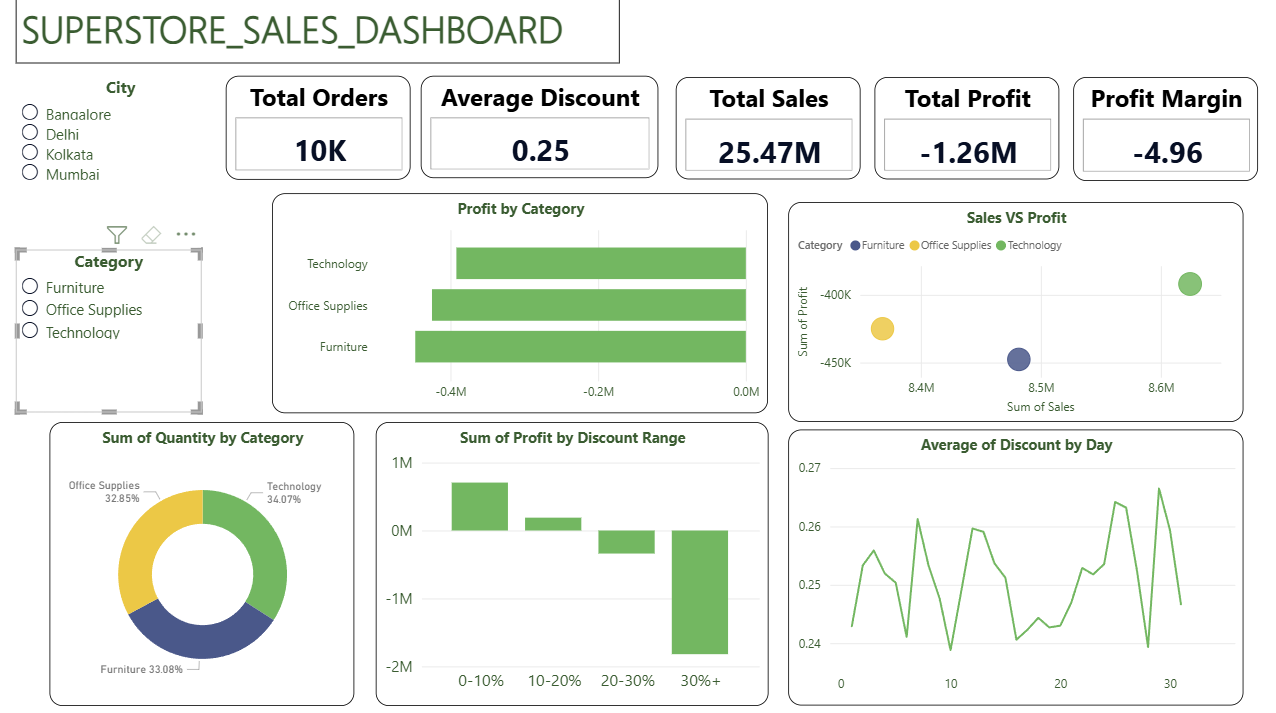

The dashboard page shown, as its layout file describes it:
{"tool":"powerbi","page":{"name":"Page 1","canvas":[1280,720],"ordinal":0},"visuals":[{"type":"cardVisual","title":"Total Sales","fields":{"Data":["Sum(cleaned_superstore.Sales)"]},"box":[678.8,80,185,102.5],"z":0},{"type":"cardVisual","title":"Total Profit","fields":{"Data":["Sum(cleaned_superstore.Profit)"]},"box":[877.5,80,185,102.5],"z":1},{"type":"cardVisual","title":"Profit Margin","fields":{"Data":["cleaned_superstore.Profit Margin %"]},"box":[1076.2,80,185,103.8],"z":2},{"type":"cardVisual","title":"Average Discount","fields":{"Data":["cleaned_superstore.Average Discount"]},"box":[423.8,78.8,237.5,102.5],"z":3},{"type":"cardVisual","title":"Total Orders","fields":{"Data":["Count(cleaned_superstore.Order ID)"]},"box":[228.8,78.8,185,103.8],"z":4},{"type":"barChart","title":"Profit by Category","fields":{"Category":["cleaned_superstore.Category"],"Y":["Sum(cleaned_superstore.Profit)"]},"box":[275,196.2,496.2,220],"z":5},{"type":"scatterChart","title":"Sales VS Profit","fields":{"X":["Sum(cleaned_superstore.Sales)"],"Y":["Sum(cleaned_superstore.Profit)"],"Size":["Sum(cleaned_superstore.Quantity)"],"Series":["cleaned_superstore.Category"]},"box":[791.2,205,455,220],"z":6},{"type":"clusteredColumnChart","fields":{"Category":["cleaned_superstore.Discount Range"],"Y":["Sum(cleaned_superstore.Profit)"]},"box":[378.8,425,392.5,283.8],"z":7},{"type":"lineChart","fields":{"Y":["Avg(cleaned_superstore.Discount)"],"Category":["cleaned_superstore.Order Date.Variation.Date Hierarchy.Day"]},"box":[791.2,432.5,455,276.2],"z":8},{"type":"donutChart","fields":{"Y":["Sum(cleaned_superstore.Quantity)"],"Category":["cleaned_superstore.Category"]},"box":[52.5,425,305,283.8],"z":9},{"type":"textbox","box":[18.8,0,603.8,66.2],"z":10},{"type":"listSlicer","fields":{"Values":["cleaned_superstore.Category"]},"box":[18.8,252.5,186.2,163.8],"z":11},{"type":"listSlicer","fields":{"Values":["cleaned_superstore.City"]},"box":[18.8,78.8,210,150],"z":12}]}

Visuals, with their boxes in screenshot pixels (x1, y1, x2, y2), scaled from the page's 1280x720 canvas onto the 1276x713 screenshot:
"Total Sales" cardVisual: box(677, 79, 861, 181)
"Total Profit" cardVisual: box(875, 79, 1059, 181)
"Profit Margin" cardVisual: box(1073, 79, 1257, 182)
"Average Discount" cardVisual: box(422, 78, 659, 180)
"Total Orders" cardVisual: box(228, 78, 413, 181)
"Profit by Category" barChart: box(274, 194, 769, 412)
"Sales VS Profit" scatterChart: box(789, 203, 1242, 421)
clusteredColumnChart - cleaned_superstore.Discount Range x Sum(cleaned_superstore.Profit): box(378, 421, 769, 702)
lineChart - Avg(cleaned_superstore.Discount) x cleaned_superstore.Order Date.Variation.Date Hierarchy.Day: box(789, 428, 1242, 702)
donutChart - Sum(cleaned_superstore.Quantity) x cleaned_superstore.Category: box(52, 421, 356, 702)
textbox: box(19, 0, 621, 66)
listSlicer - cleaned_superstore.Category: box(19, 250, 204, 412)
listSlicer - cleaned_superstore.City: box(19, 78, 228, 227)
